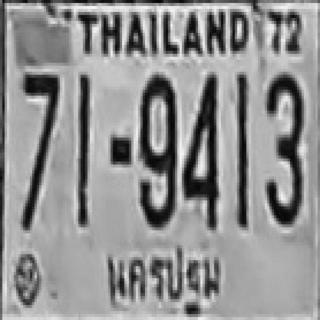N00: (138, 72, 175, 176)
N01: (235, 72, 246, 191)
N03: (265, 70, 302, 220)
N04: (181, 70, 218, 223), (181, 72, 218, 203), (182, 70, 217, 187)
N07: (21, 72, 58, 162)
N09: (138, 75, 175, 224)
P28: (96, 237, 226, 319)
